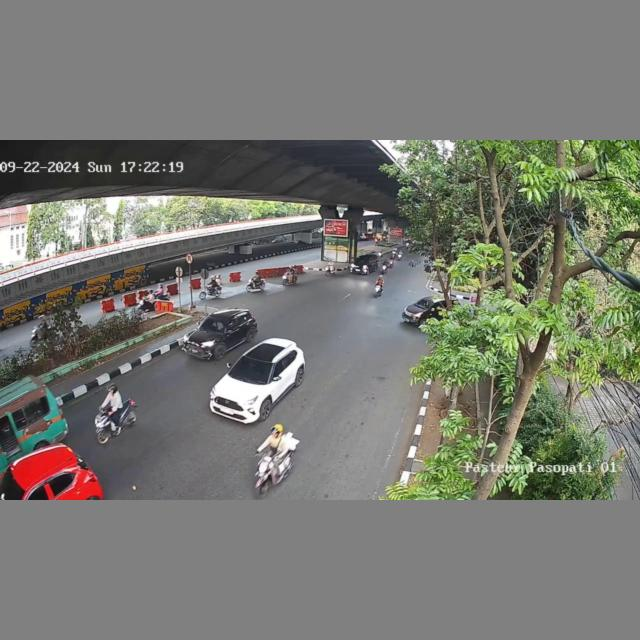windshield: (229, 354, 275, 385), (198, 317, 228, 333)
